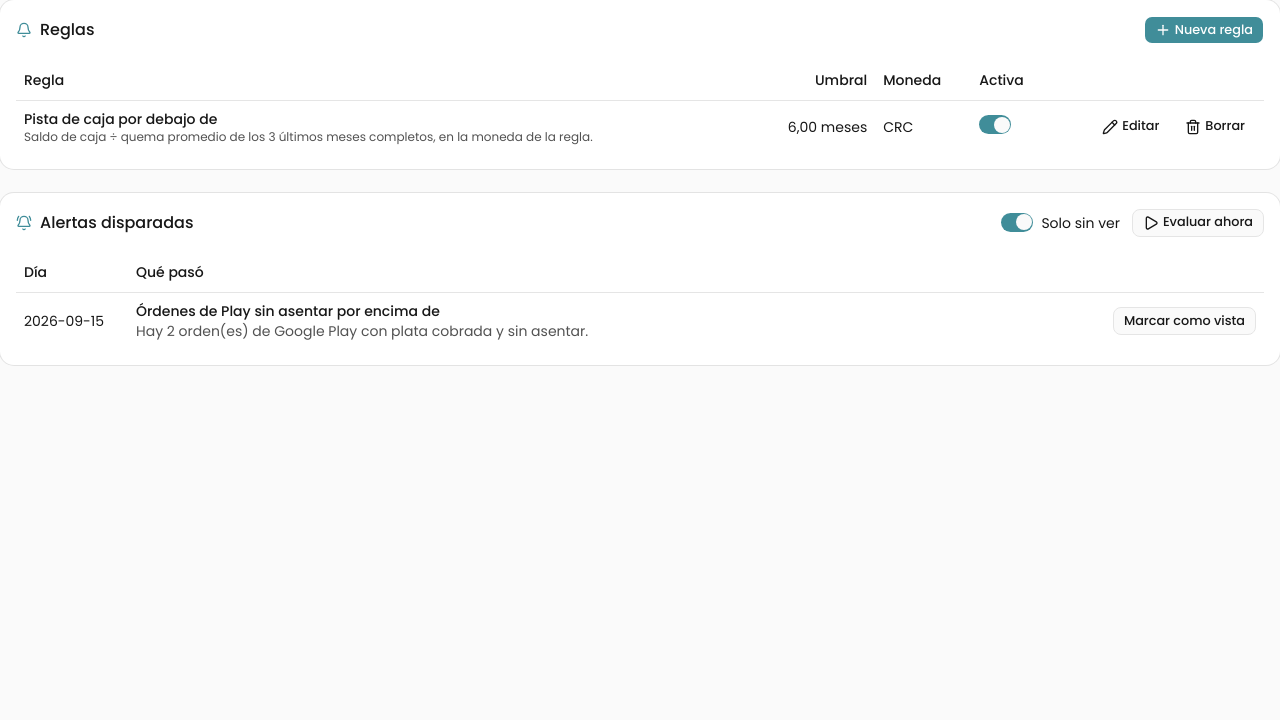
Test: FinanceAlerts — borrar una regla se lleva su historial › lo avisa antes de borrar
Later steps or results of the test are not shown.
Click the button "Borrar".
click(1215, 126)  # box [1174,112,1256,140]
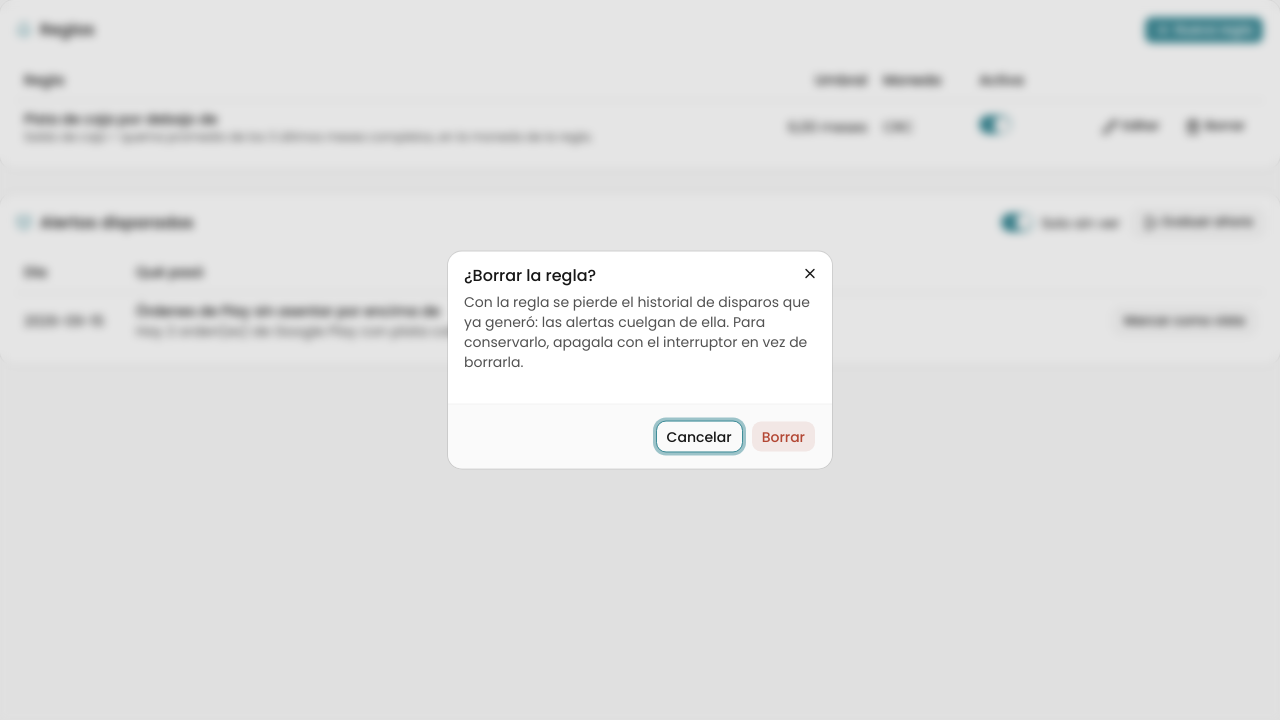
Expected: the text "se pierde el historial de disparos" is shown, [464,292,810,372]
